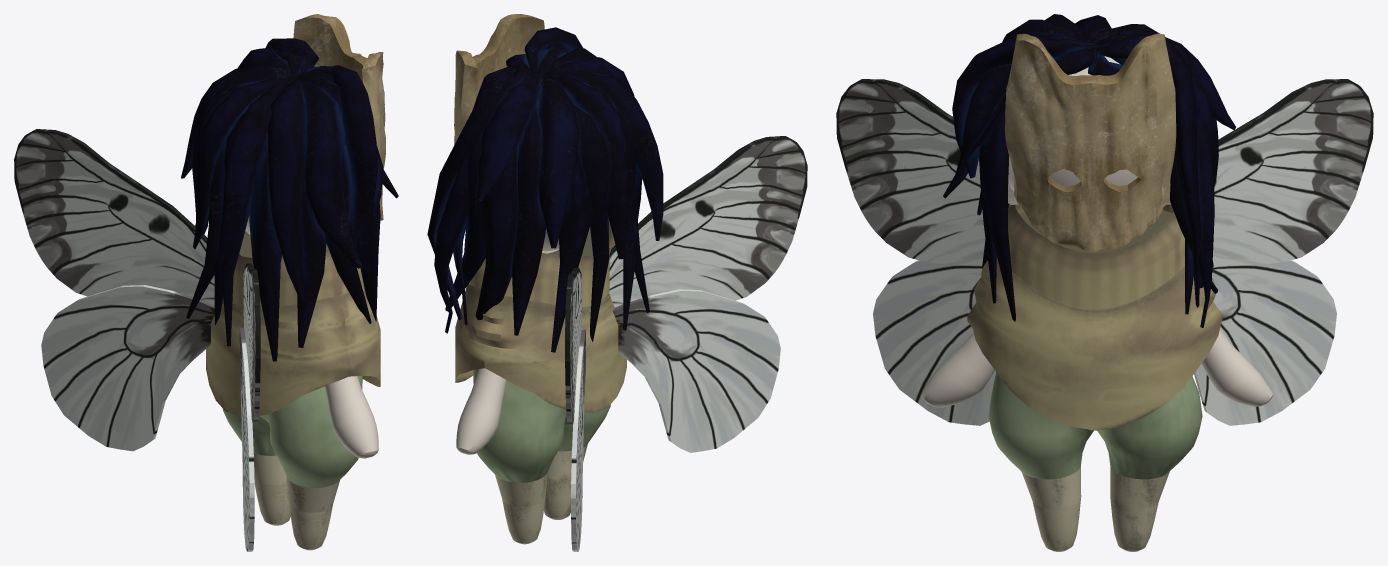
File: Child 2.fbx
3 views of the same model, side by side, from view 1: azimuth 30°, elevation 25°; view 2: azimuth 150°, elevation 25°; view 3: azimuth 270°, elevation 25° (orthographic). The views are drawn at different scales.
Parts seen in each view (by area): view 1: NurbsPath.084, Cylinder.162, Cube.103, Cube.104, Cube.093, Cube.106, Cube.105; view 2: NurbsPath.084, Cylinder.162, Cube.105, Cube.106, Cube.093, Cube.104, Cube.103; view 3: Cylinder.162, Cube.093, NurbsPath.084, Cube.103, Cube.105, Cube.104, Cube.106.
Boxes of the visible parts, x1,y1,x2,y2 form: NurbsPath.084: [181, 38, 398, 361]; Cylinder.162: [206, 216, 380, 550]; Cube.103: [14, 129, 214, 305]; Cube.104: [41, 285, 214, 451]; Cube.093: [293, 14, 385, 220]; Cube.106: [239, 327, 254, 551]; Cube.105: [243, 263, 260, 422]; NurbsPath.084: [427, 27, 663, 352]; Cylinder.162: [455, 220, 626, 544]; Cube.105: [609, 136, 807, 307]; Cube.106: [612, 289, 780, 452]; Cube.093: [454, 14, 544, 144]; Cube.104: [571, 329, 585, 551]; Cube.103: [565, 268, 581, 424]; Cylinder.162: [921, 56, 1272, 551]; Cube.093: [1005, 33, 1176, 252]; NurbsPath.084: [943, 14, 1235, 327]; Cube.103: [1213, 79, 1373, 263]; Cube.105: [836, 79, 1010, 263]; Cube.104: [1194, 258, 1336, 425]; Cube.106: [873, 259, 996, 425].
Size of the model in its own units: 212 by 432 by 390.
